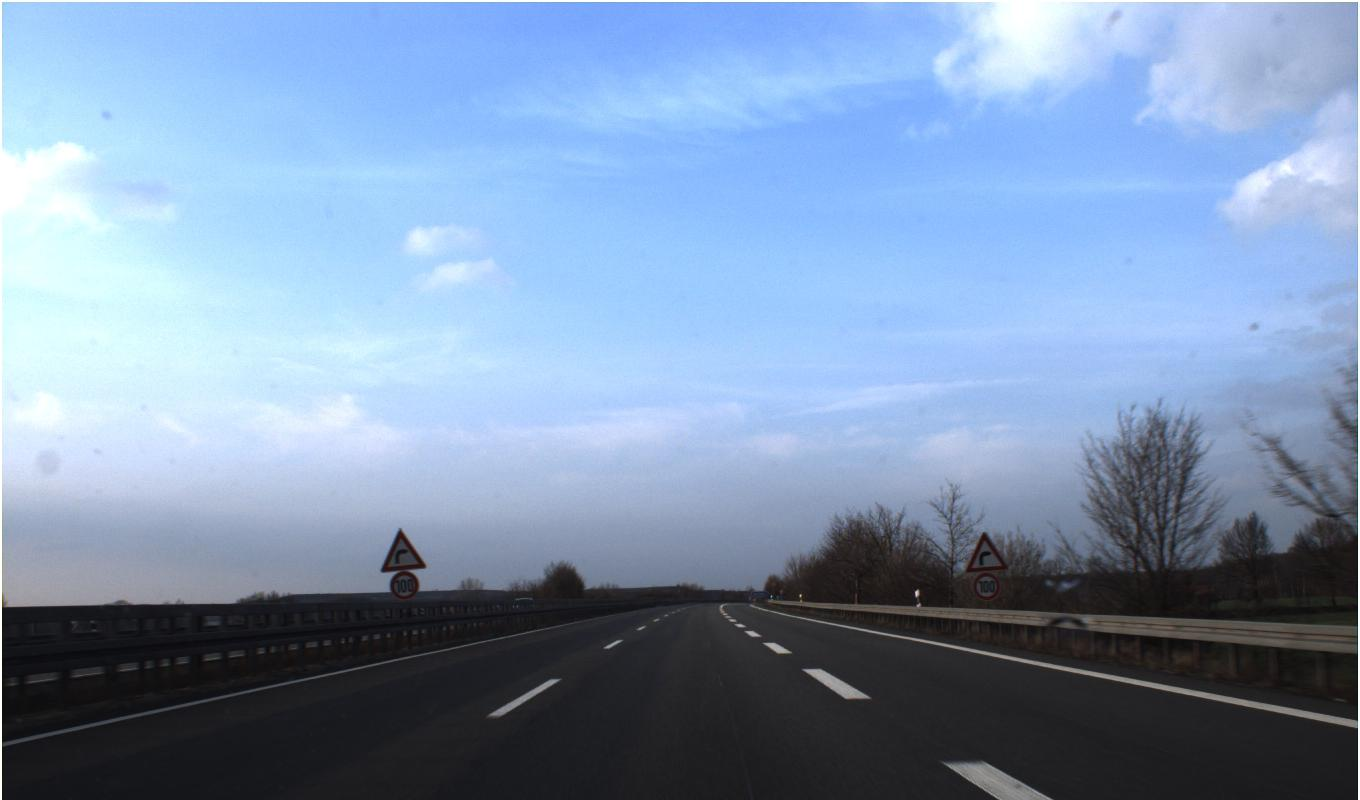danger: (379, 528, 427, 573), (964, 531, 1009, 573)
prohibitory: (389, 569, 419, 600), (972, 572, 1001, 601)
